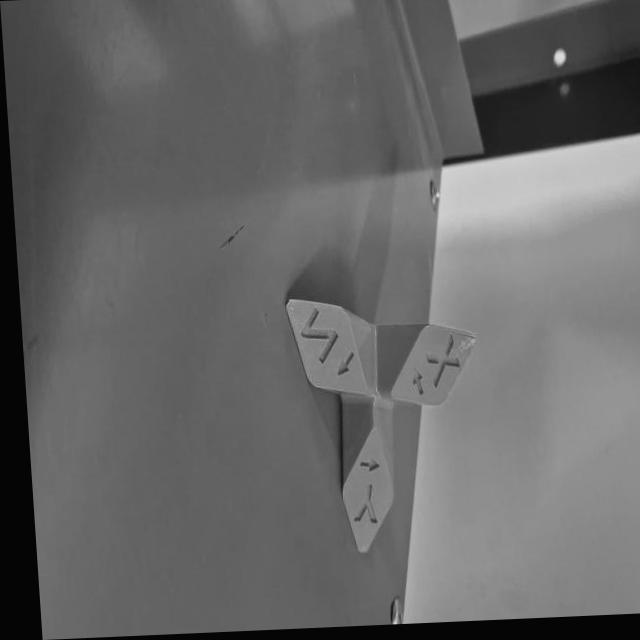eje: (277, 280, 495, 564)
